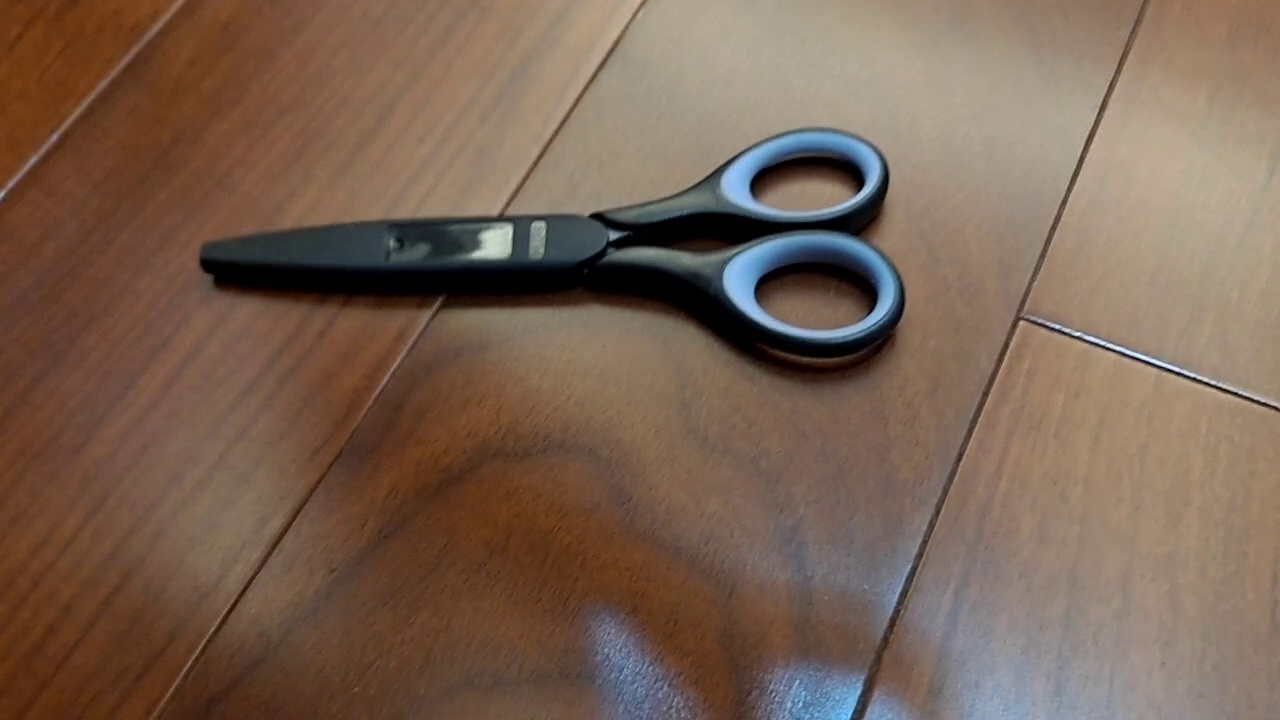scissors: (197, 124, 907, 363)
